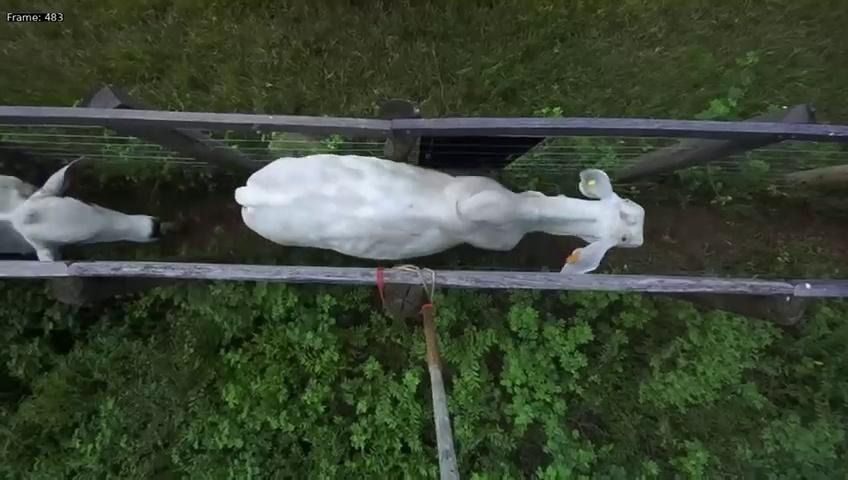cattle: (233, 123, 646, 273)
